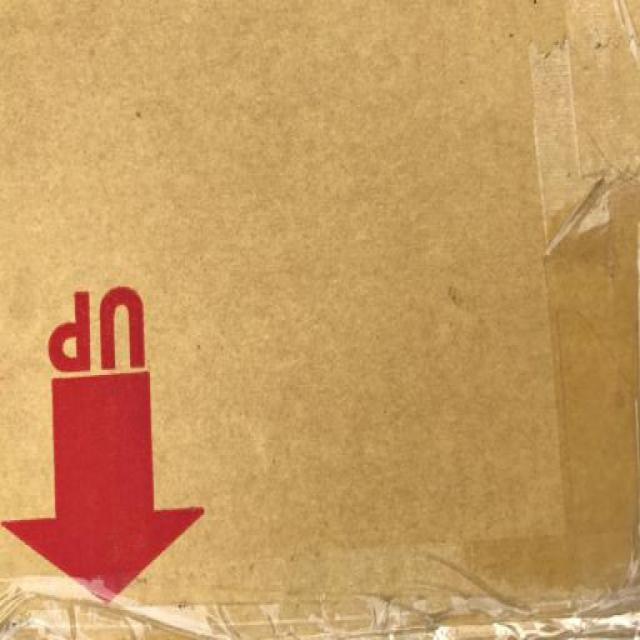Cardboard Paper: (2, 0, 640, 640)
